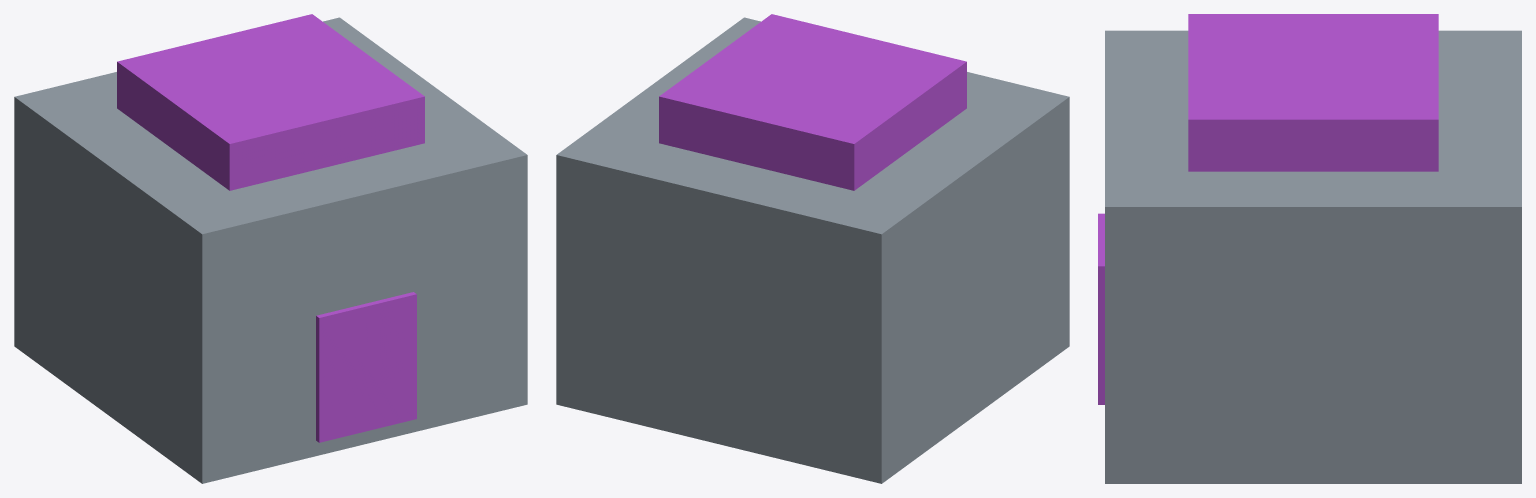
File: CH_TechCenter_LOD0.glb
The picture shows the model from 3 angles, left to right: view 1: azimuth 30°, elevation 25°; view 2: azimuth 150°, elevation 25°; view 3: azimuth 270°, elevation 25°; orthographic projection. The views are drawn at different scales.
Parts seen in each view (by area): view 1: EntranceGate; view 2: EntranceGate; view 3: EntranceGate.
Boxes of the visible parts, x1,y1,x2,y2 form: EntranceGate: (14, 14, 527, 483); EntranceGate: (556, 14, 1069, 483); EntranceGate: (1098, 14, 1521, 483).
Bounding box in the file's own units: 600 × 523 × 610.
